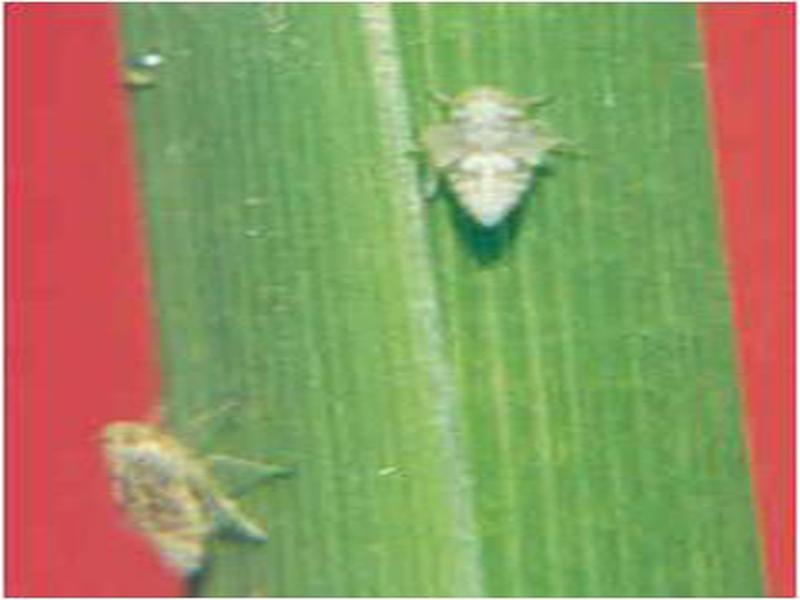White_backed_plant_hopper: (59, 410, 290, 583), (401, 72, 564, 252)
